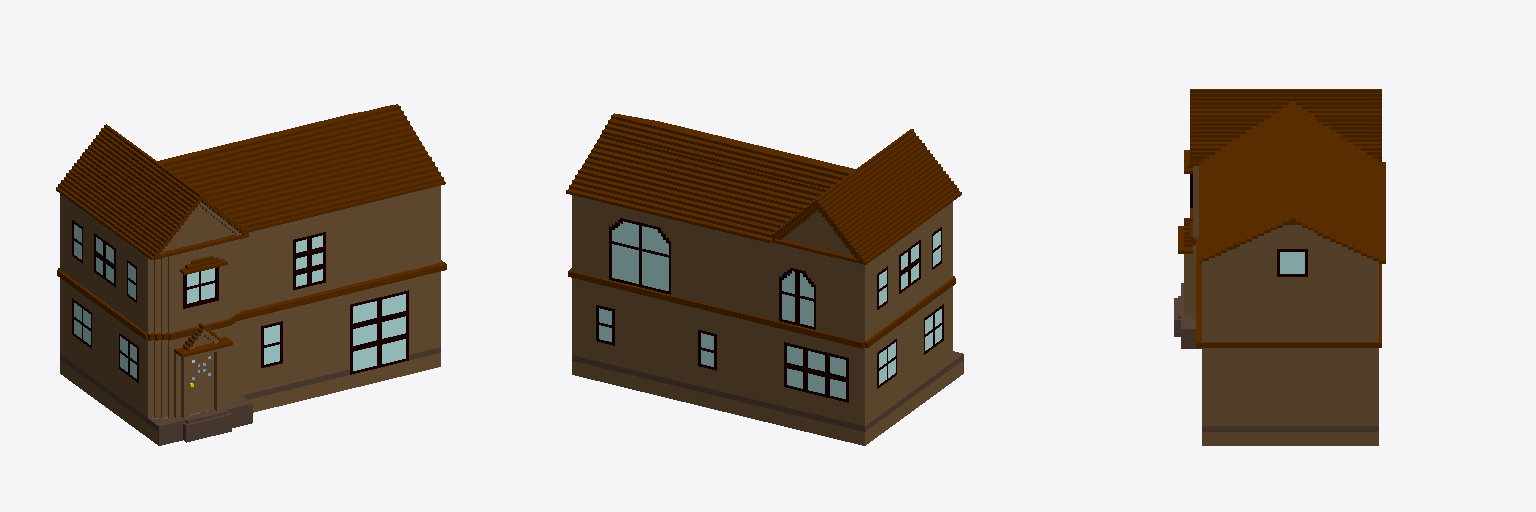
3 renders of one model, left to right at view 1: azimuth 30°, elevation 25°; view 2: azimuth 150°, elevation 25°; view 3: azimuth 270°, elevation 25°, orthographic.
Visible parts, largest first — view 1: object 1; view 2: object 1; view 3: object 1.
Boxes of the visible parts, x1=… form: object 1: x1=56, y1=104, x2=446, y2=445; object 1: x1=566, y1=113, x2=963, y2=445; object 1: x1=1174, y1=89, x2=1385, y2=445.
Bounding box in the file's own units: 11.1 × 8.4 × 6.8.
Materials: 1 (1 with a texture image).